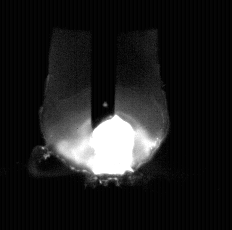arame: (91, 0, 116, 130)
poca: (39, 0, 170, 230)
